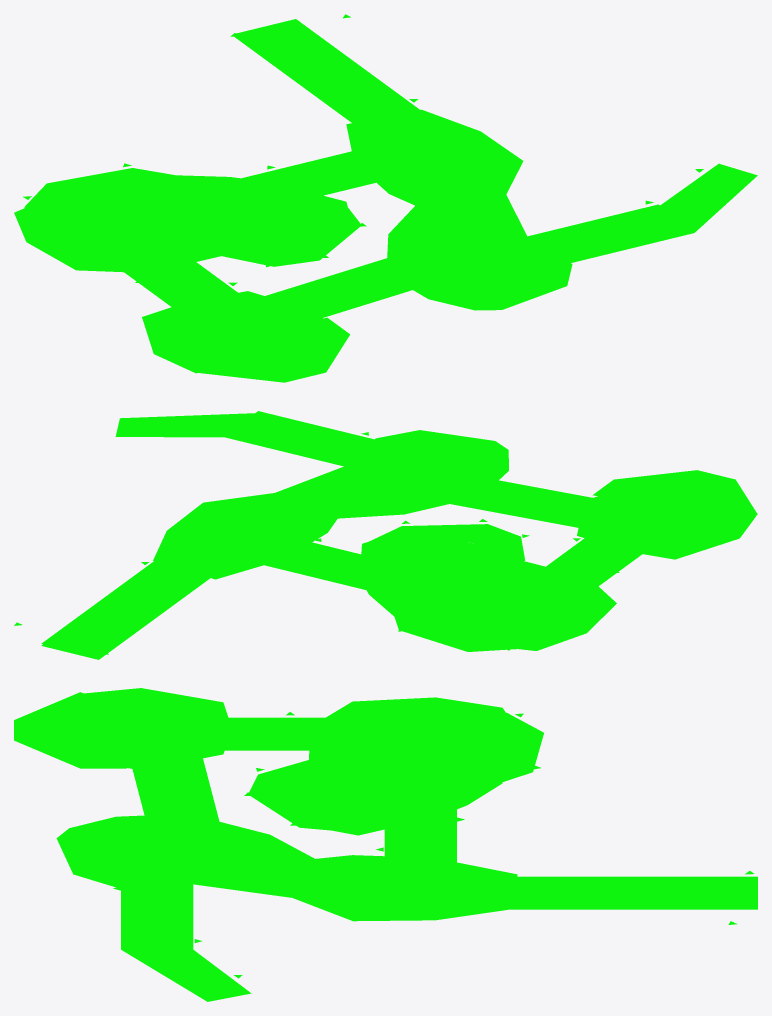
Rendered from s02b_lc1-floor.glb.
3 views of the same model, one above another, from view 1: azimuth 30°, elevation 25°; view 2: azimuth 150°, elevation 25°; view 3: azimuth 270°, elevation 25° (orthographic). The views are drawn at different scales.
Visible parts, largest first — view 1: collision_floor-colonly; view 2: collision_floor-colonly; view 3: collision_floor-colonly.
Boxes of the visible parts, x1=… form: collision_floor-colonly: x1=14, y1=14, x2=757, y2=382; collision_floor-colonly: x1=14, y1=411, x2=757, y2=659; collision_floor-colonly: x1=14, y1=688, x2=757, y2=1001.
Size of the model in its own units: 61.29 by 0.4219 by 61.61.
